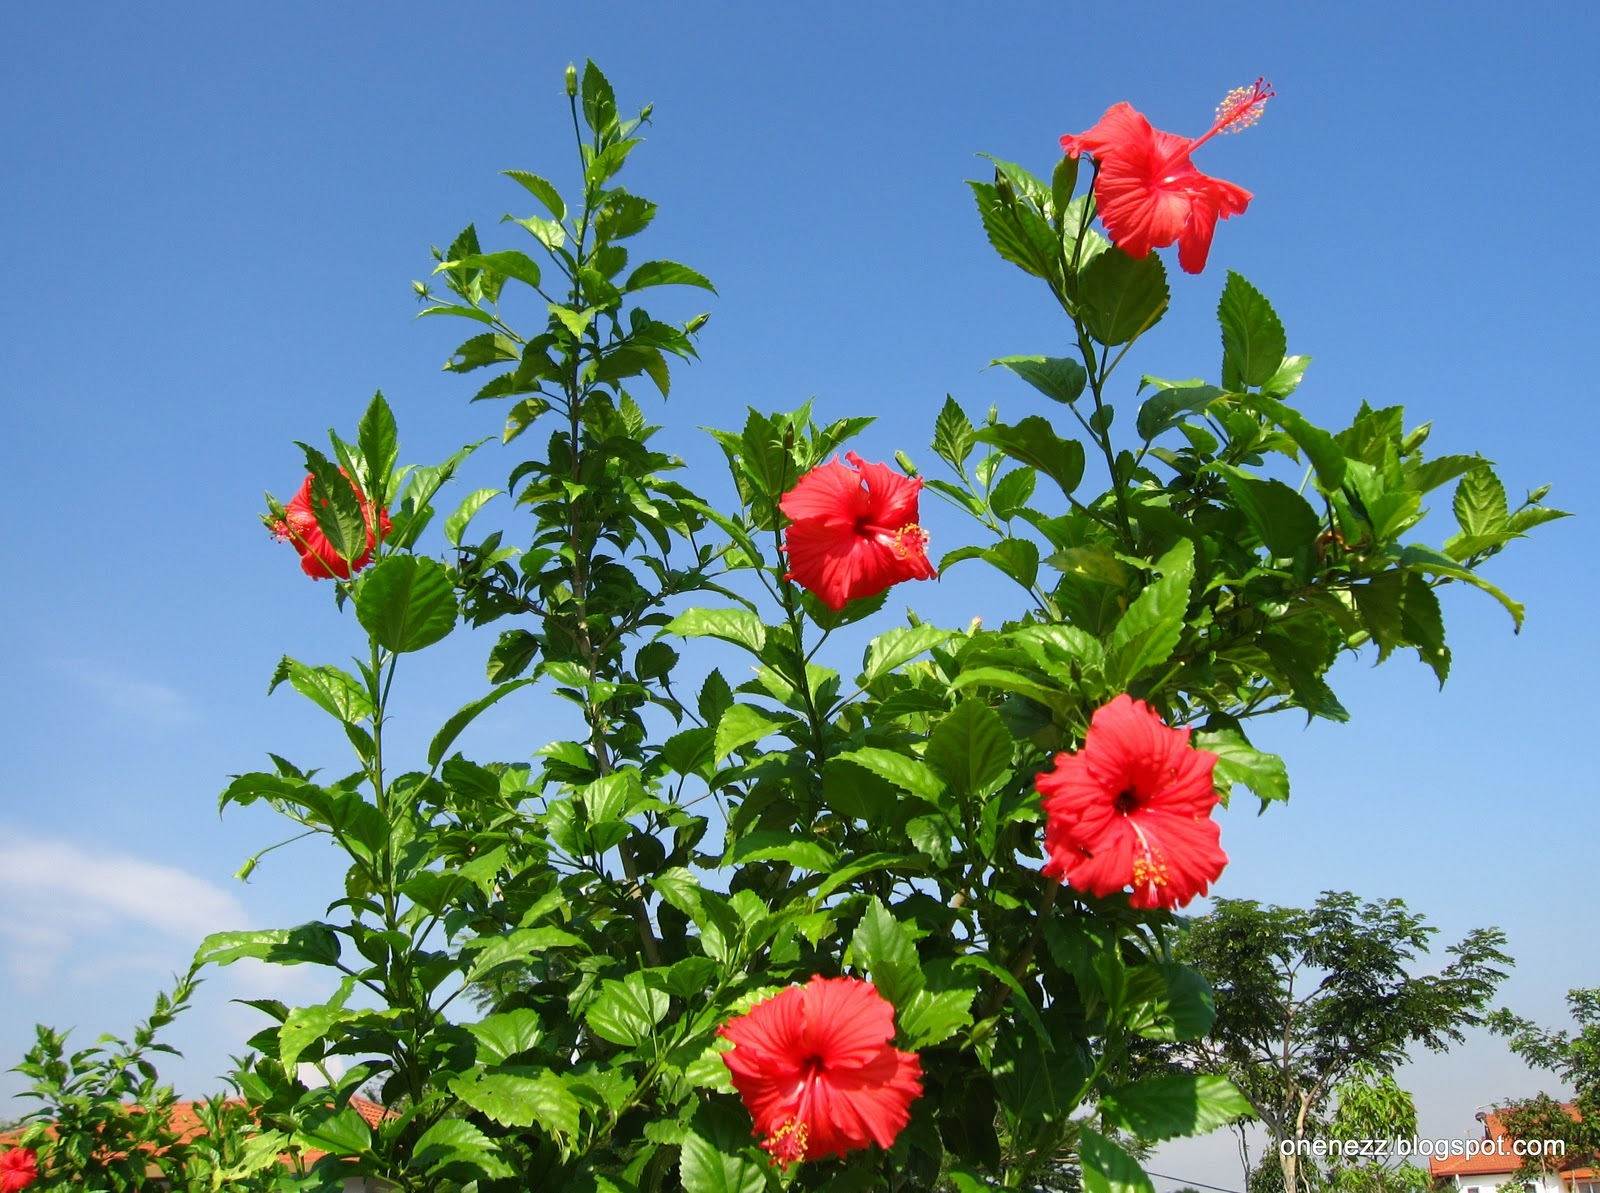Hibiscus-rosa-sinesis: (1032, 692, 1224, 910), (719, 972, 927, 1170), (1062, 81, 1274, 269), (774, 456, 937, 607)
